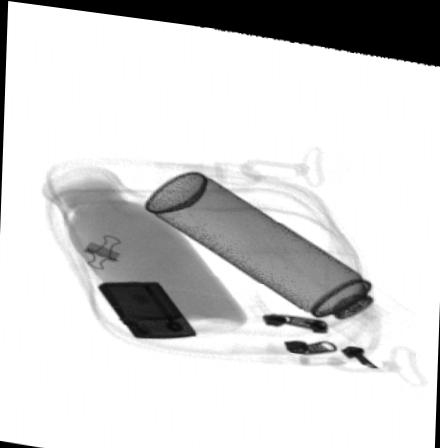Lighter: (96, 277, 194, 334)
Sprayer: (145, 167, 410, 340)
